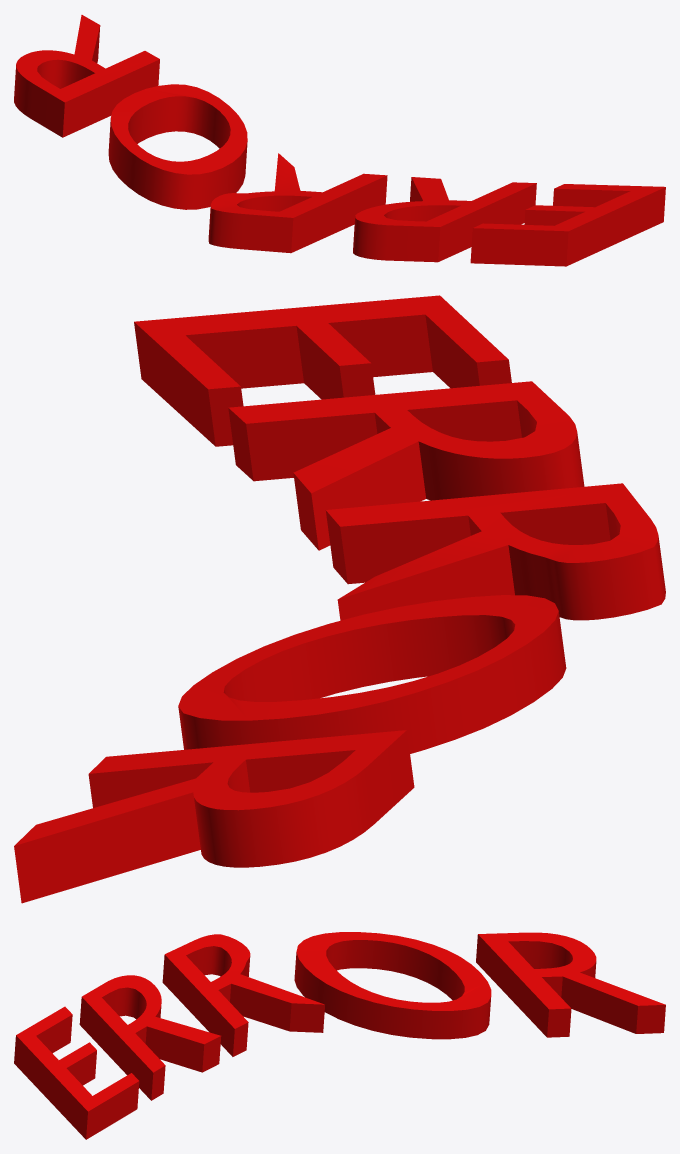
The model's file is SM_ERROR.fbx.
3 renders of one model, top to bottom at view 1: azimuth 30°, elevation 25°; view 2: azimuth 150°, elevation 25°; view 3: azimuth 270°, elevation 25°, orthographic. The views are drawn at different scales.
Parts seen in each view (by area): view 1: typeMesh1; view 2: typeMesh1; view 3: typeMesh1.
Boxes of the visible parts, x1,y1,x2,y2 form: typeMesh1: (14, 15, 665, 266); typeMesh1: (14, 295, 665, 903); typeMesh1: (14, 932, 665, 1139).
Size of the model in its own units: 186 by 26.16 by 306.
